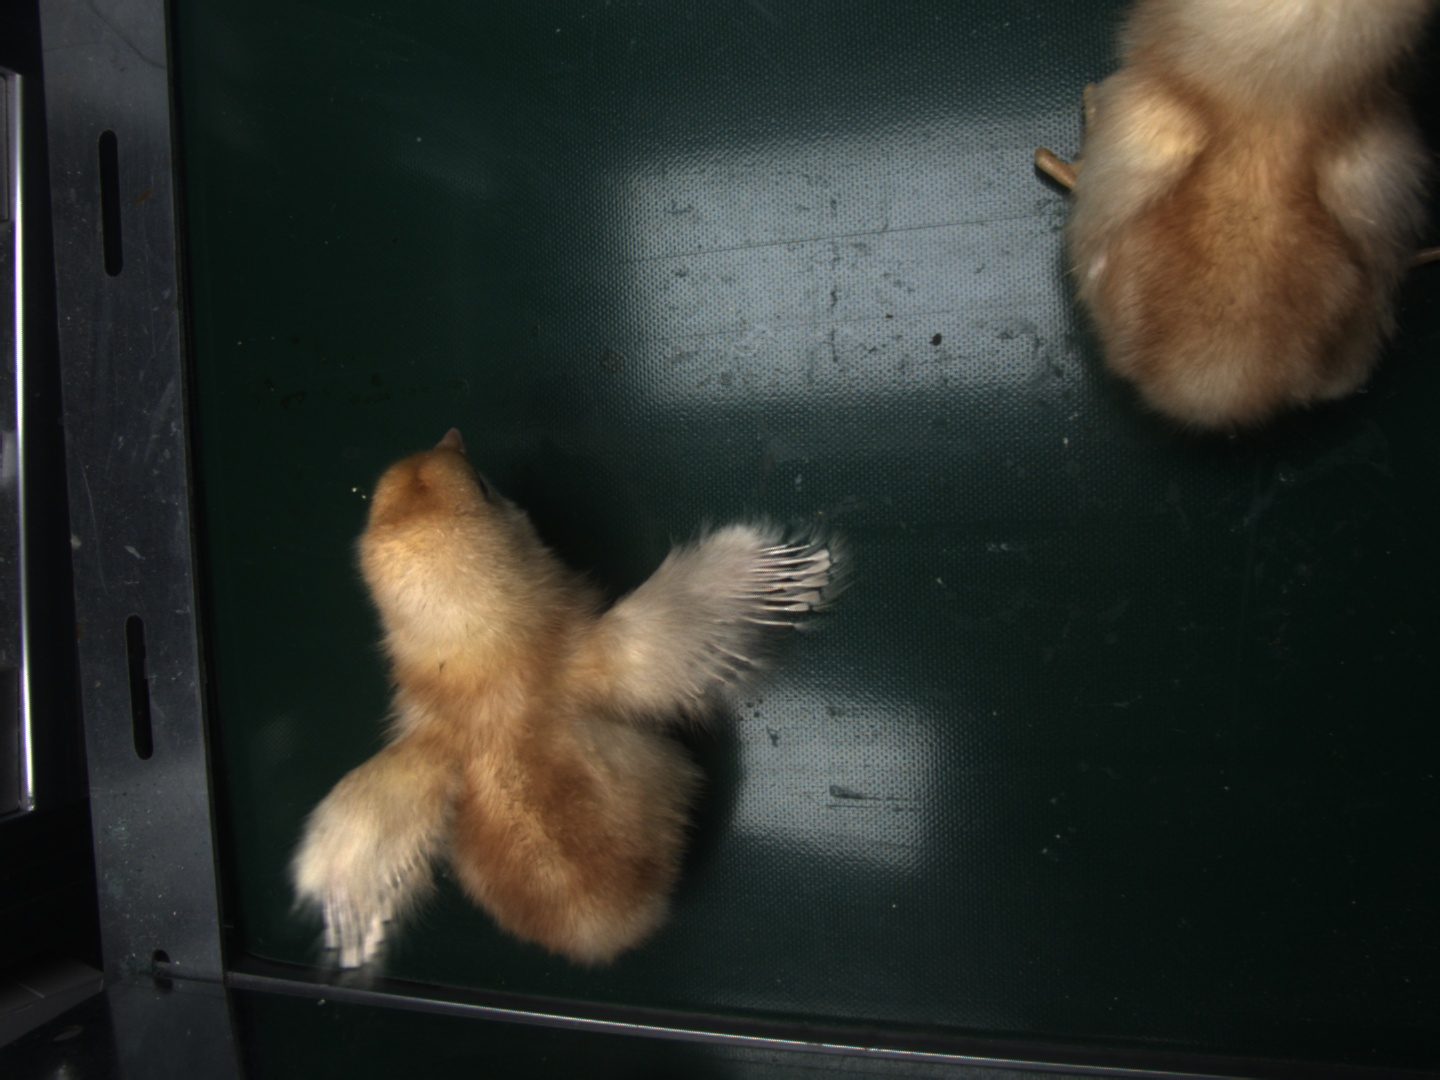female: (748, 545, 835, 626)
